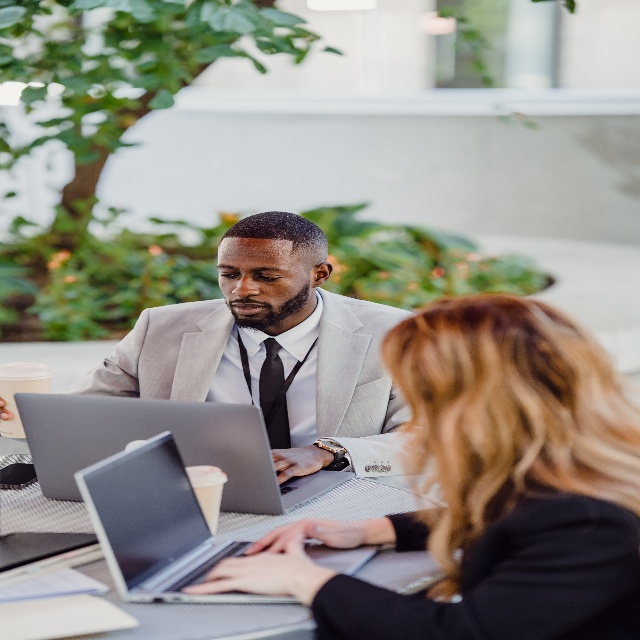Sin_guantes: (180, 550, 315, 603), (244, 516, 360, 550), (272, 445, 323, 485)
